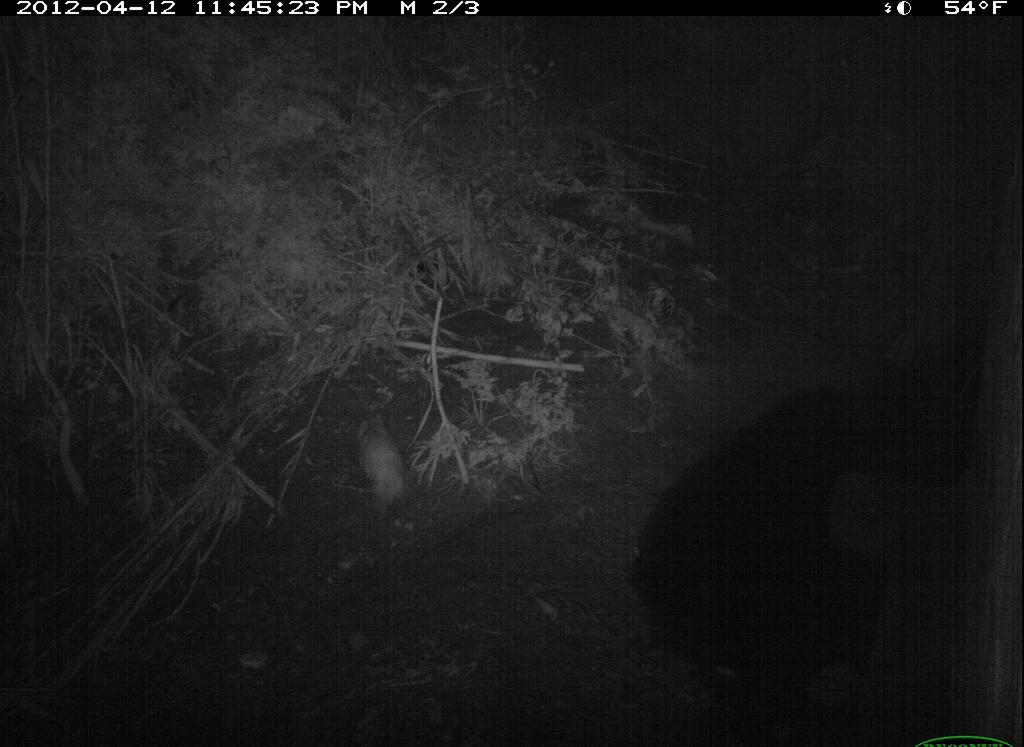opossum: (355, 408, 419, 529)
